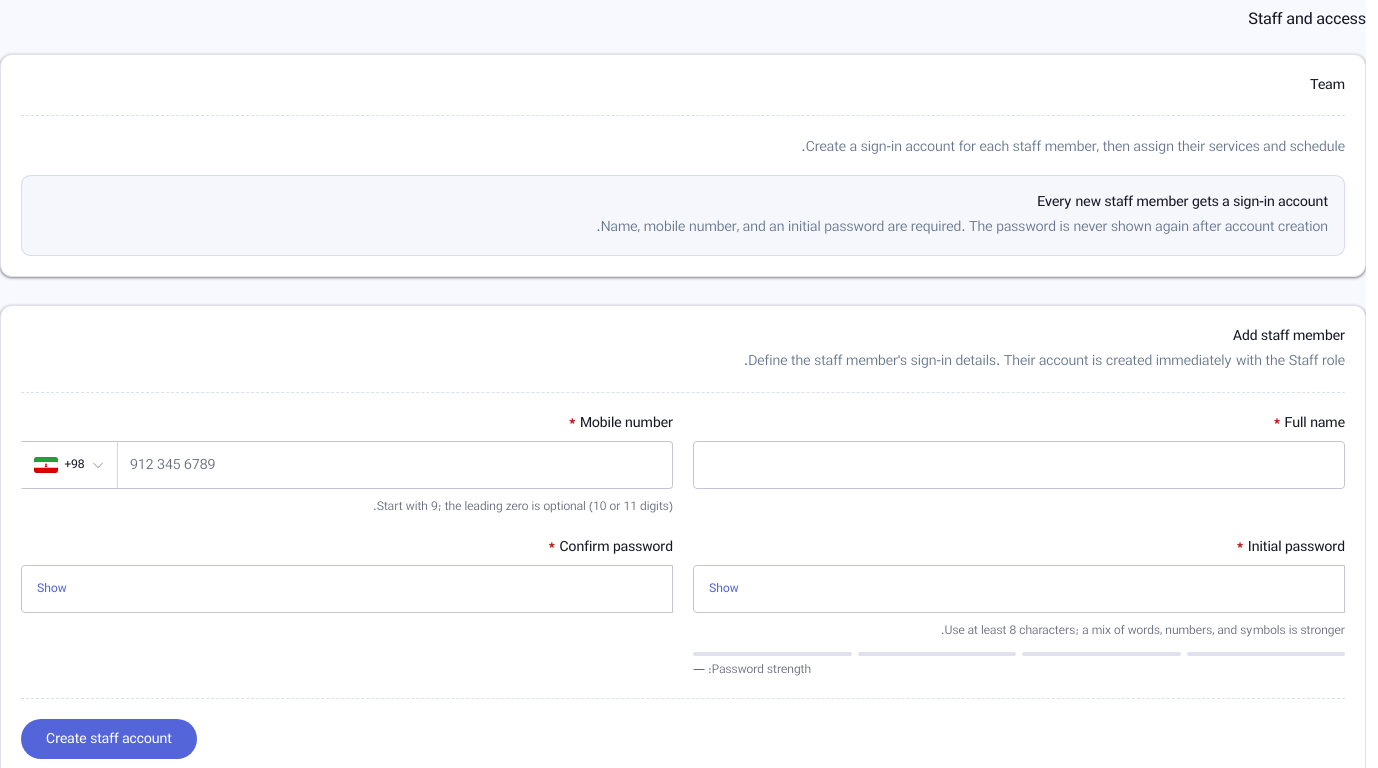
TeamPage › requires a mobile number and password when the owner creates staff
Click the button "Create staff account". click: {"x": 109, "y": 739}
box: [21,719,197,759]
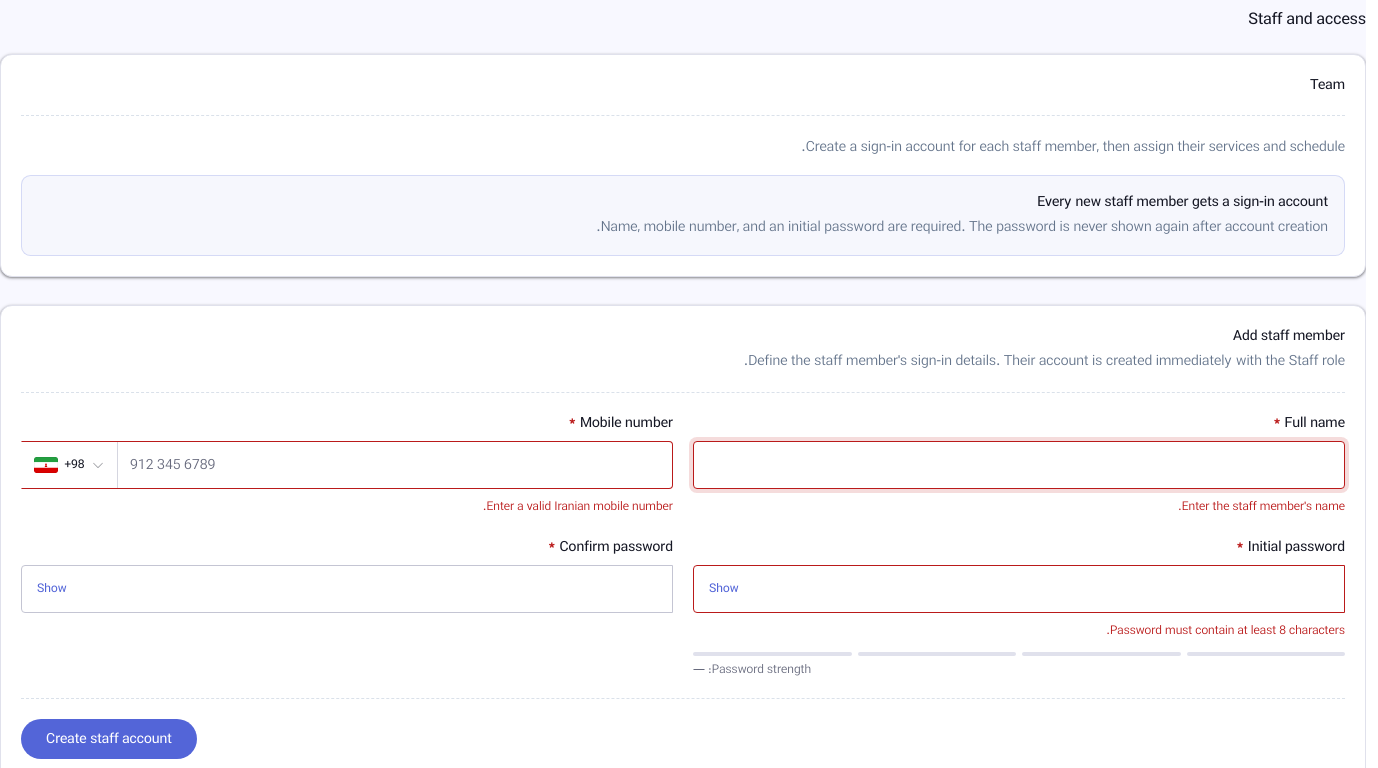
Result: the text "Enter the staff member's name." is shown at [1178,498,1345,515]
Result: the text "Enter a valid Iranian mobile number." is shown at [483,498,673,515]
Result: the text "Password must contain at least 8 characters." is shown at [1106,622,1345,639]
Type "Test Specialist" into the field labelled "Full name*". click: {"x": 1019, "y": 465}
box: [693,441,1345,489]
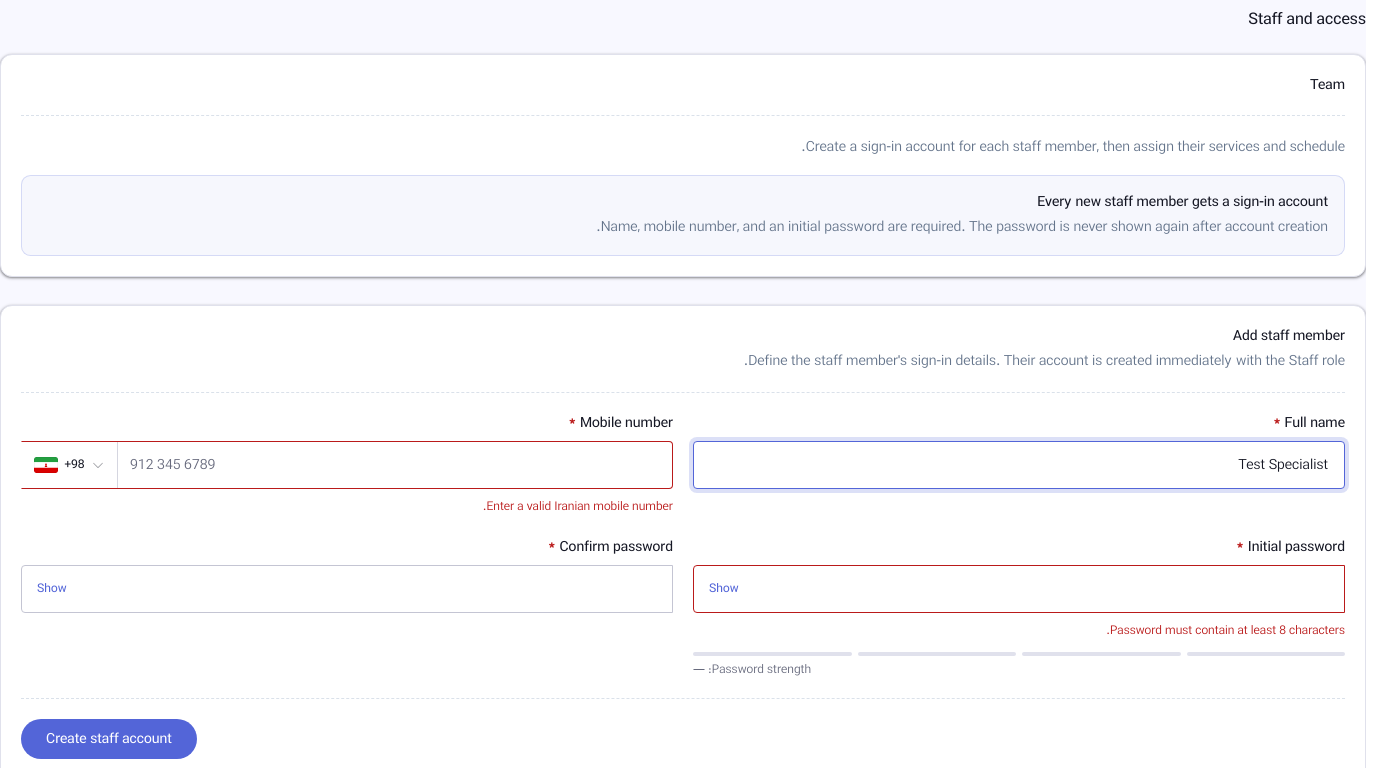
Type "۹۱۲۳۴۵۶۷۸۹" into the field labelled "Mobile number*". click: {"x": 347, "y": 465}
box: [21,441,673,489]
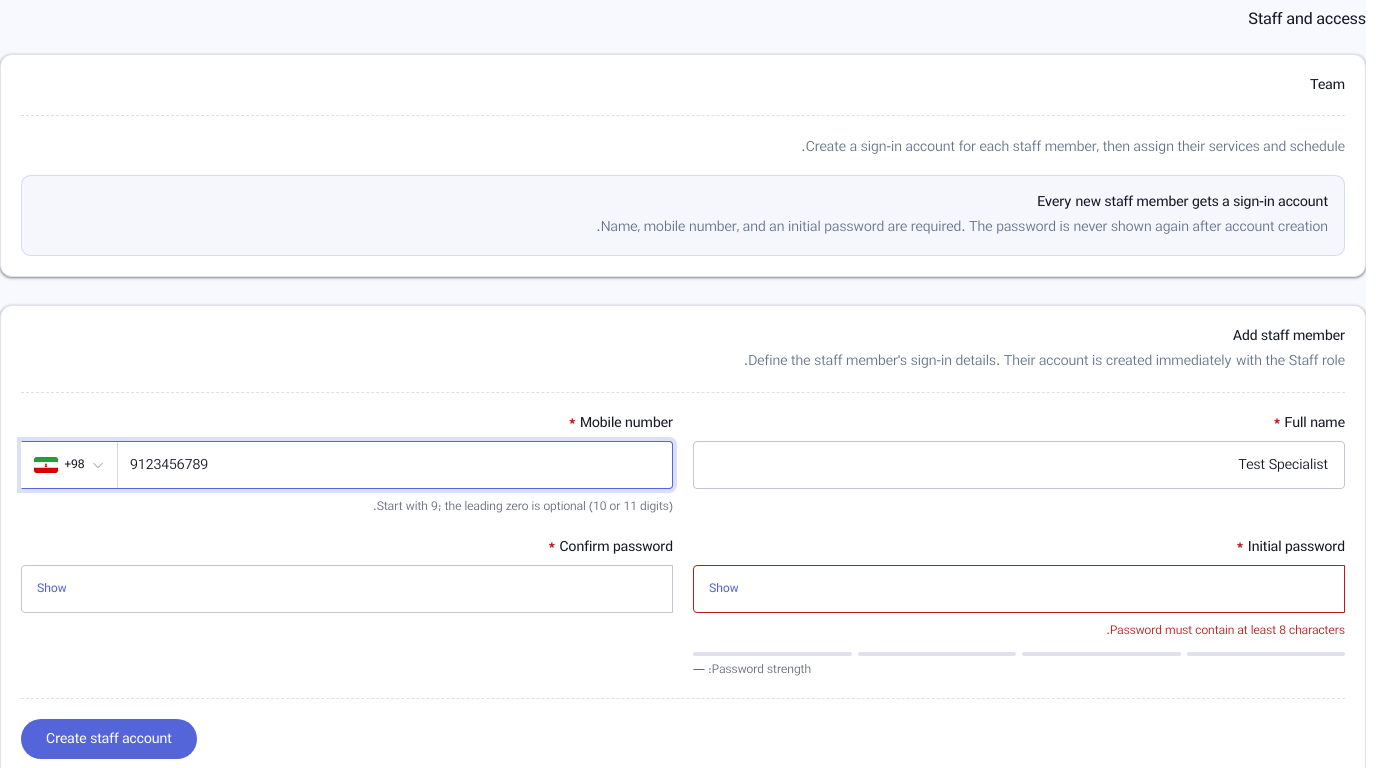
Type "Staff123!" into the password field labelled "Initial password*". click: {"x": 1019, "y": 589}
box: [693,565,1345,613]
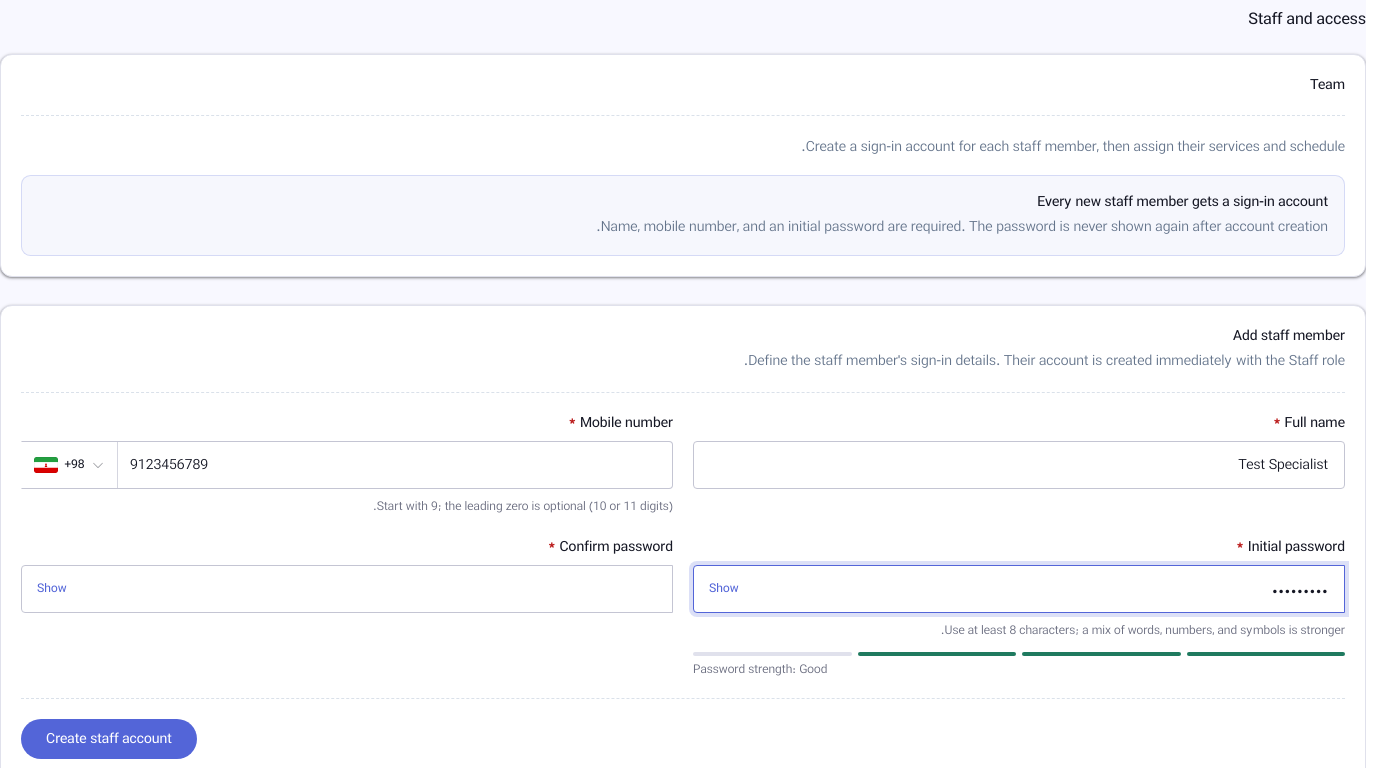
Type "Staff123!" into the password field labelled "Confirm password*". click: {"x": 347, "y": 589}
box: [21,565,673,613]
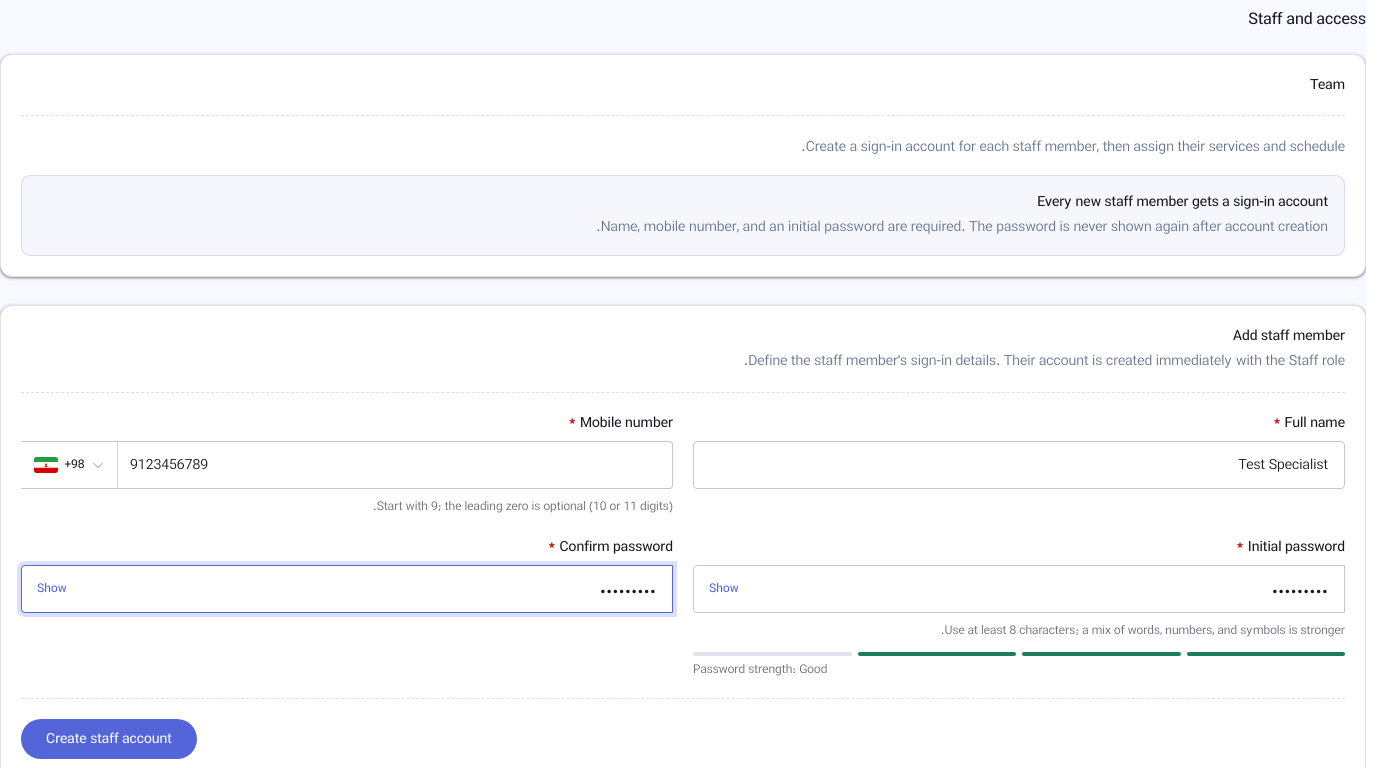
Click the button "Create staff account". click: {"x": 109, "y": 739}
box: [21,719,197,759]
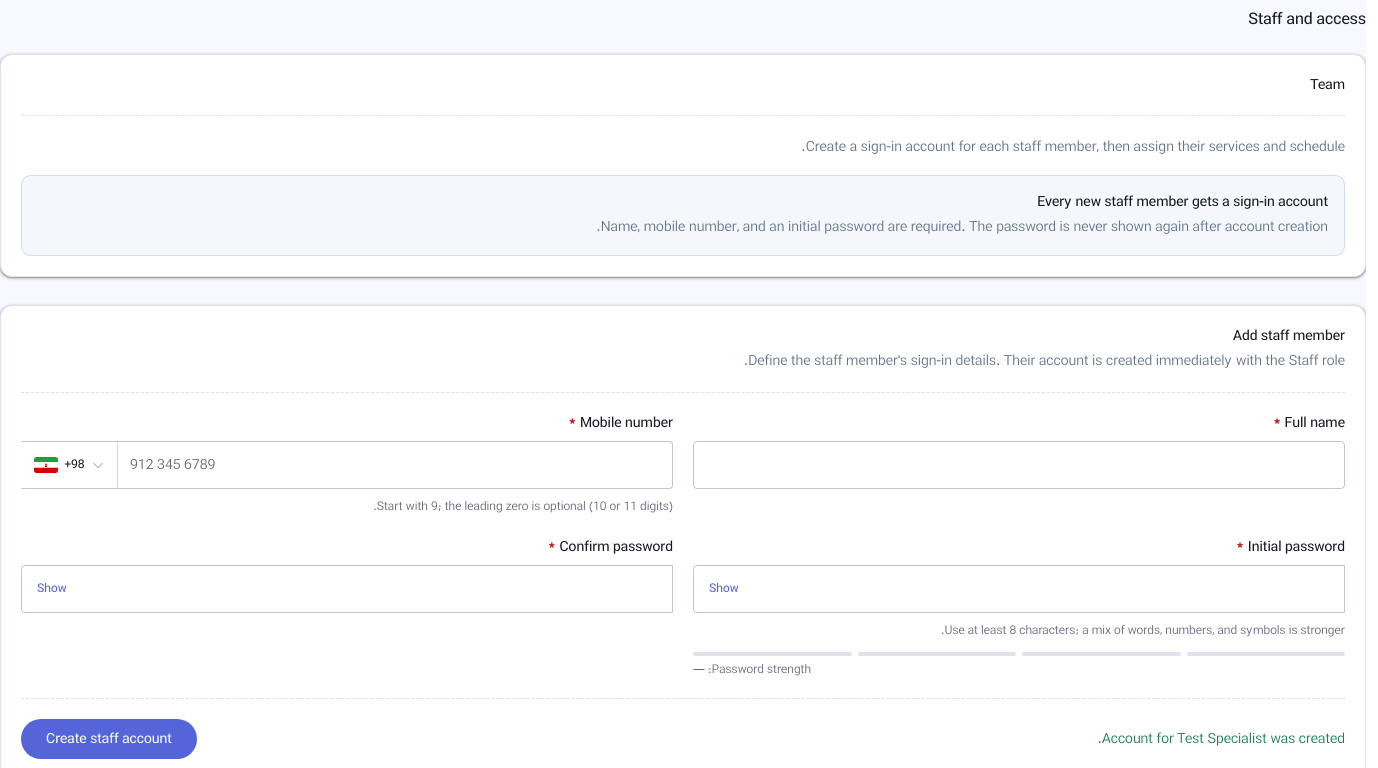
Result: the text "Account for Test Specialist was created." is shown at [1098,729,1345,749]
Result: the password field labelled "Initial password*" is empty at [693,565,1345,613]
